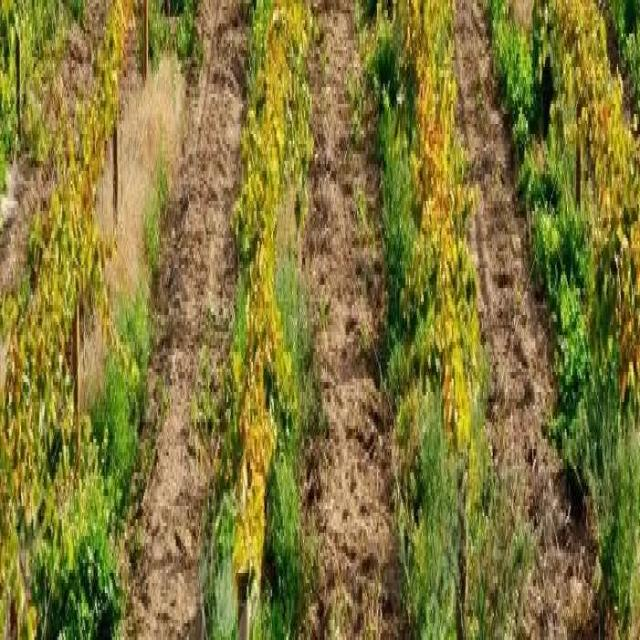row: (437, 0, 630, 640), (98, 0, 254, 640), (298, 0, 412, 640)
